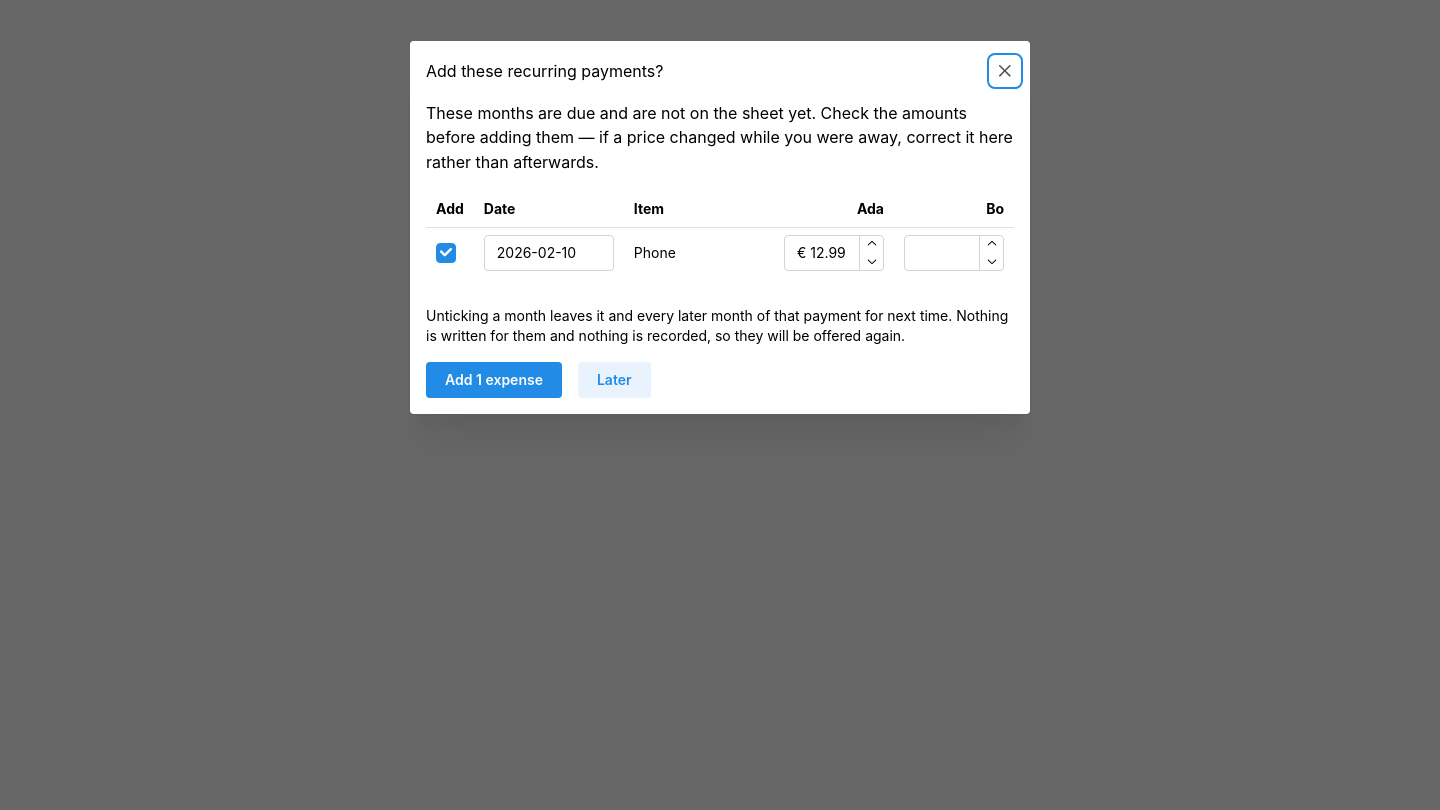
Scenario: RecurringPrompt › will not write an empty list once everything has been unticked
Click the checkbox named "Add Phone in 2026-02": coordinates (446, 253) left=436, top=243, right=456, bottom=263
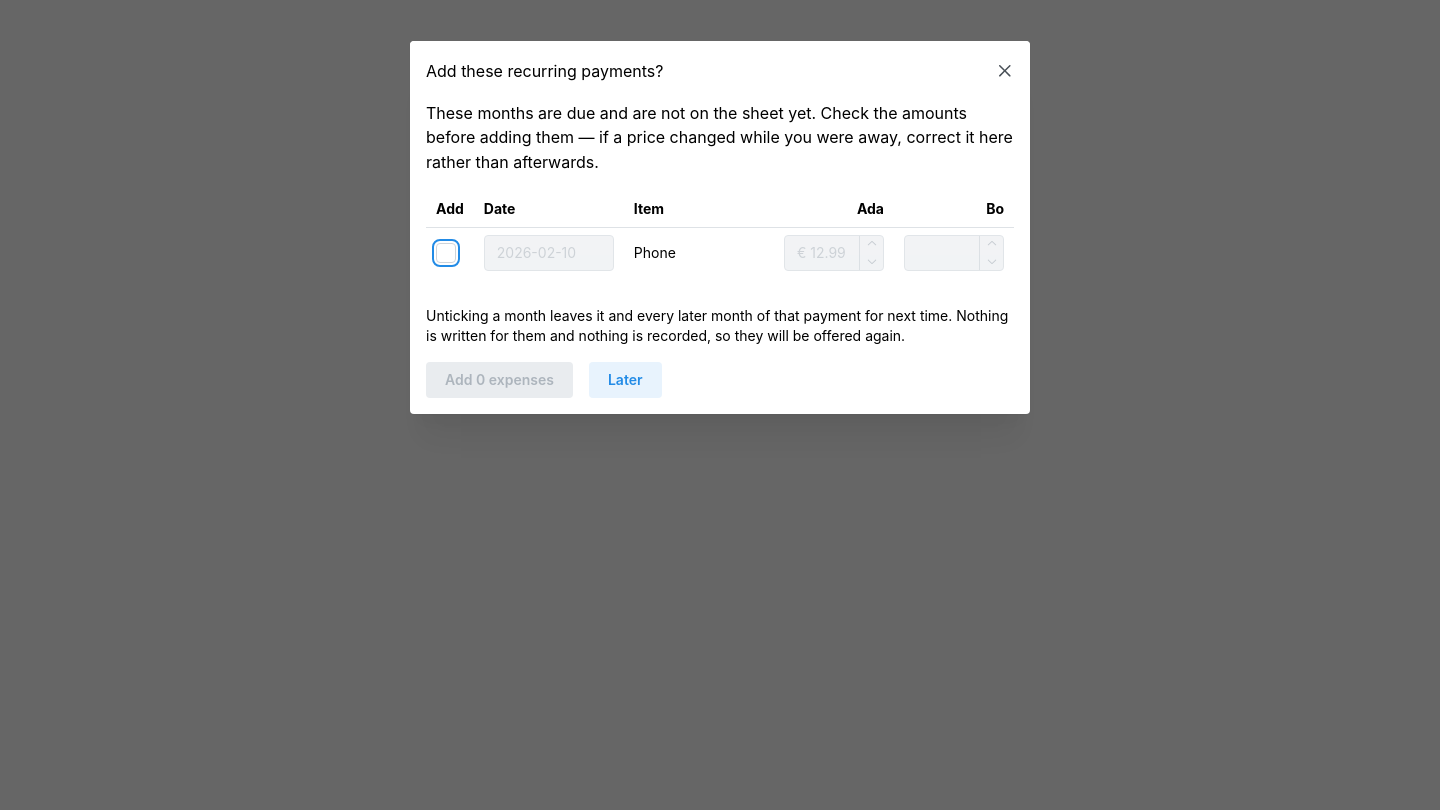
Expected: the button "Add 0 expenses" is disabled, left=426, top=362, right=573, bottom=398
